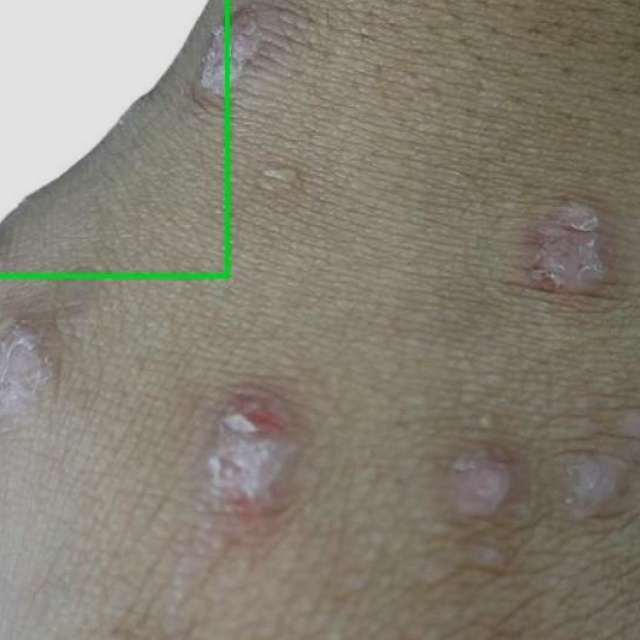Contact Dermatitis: (0, 0, 227, 275)
